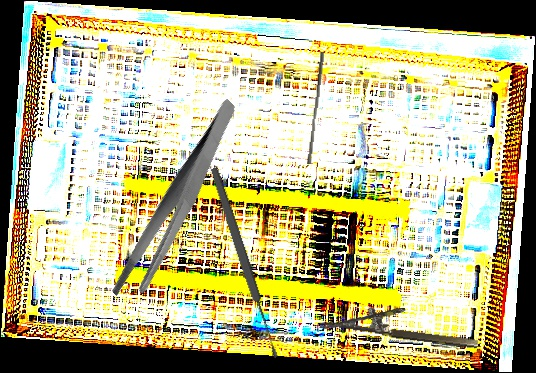Dressing Forceps: (73, 97, 282, 309)
Needle Holder: (319, 297, 482, 350)
Pusher: (306, 51, 325, 165)
Surgical Spoon: (208, 166, 281, 360)
